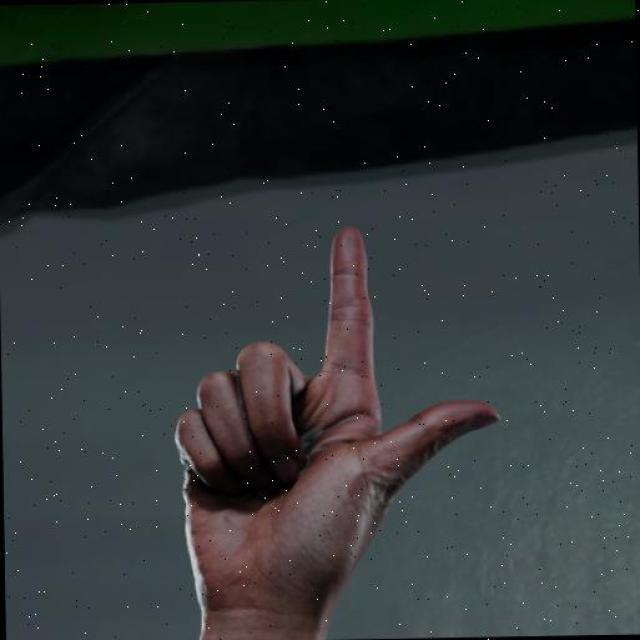L: (168, 220, 506, 628)
